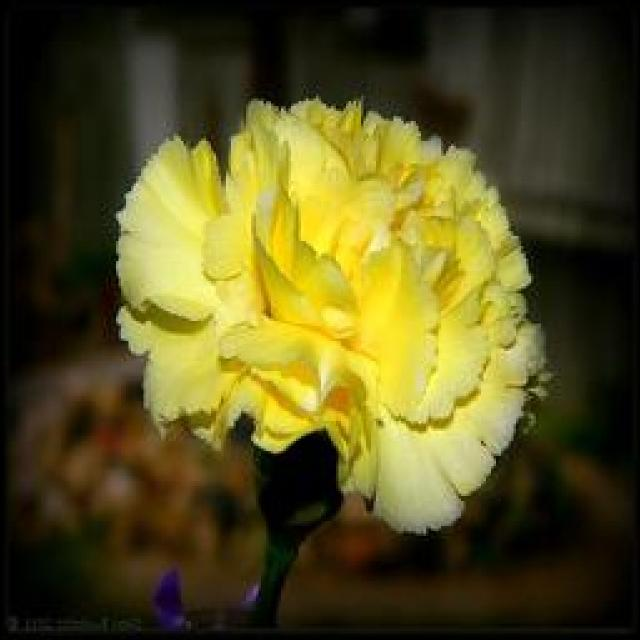carnation: (94, 61, 548, 518)
